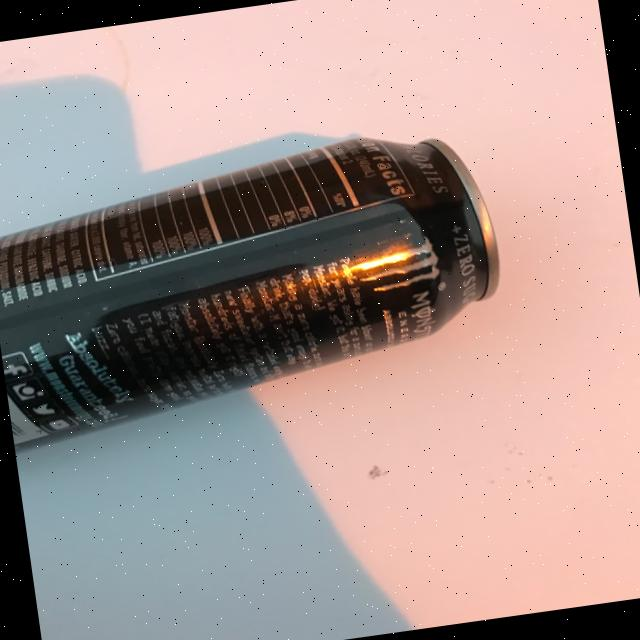metal: (0, 118, 516, 451)
